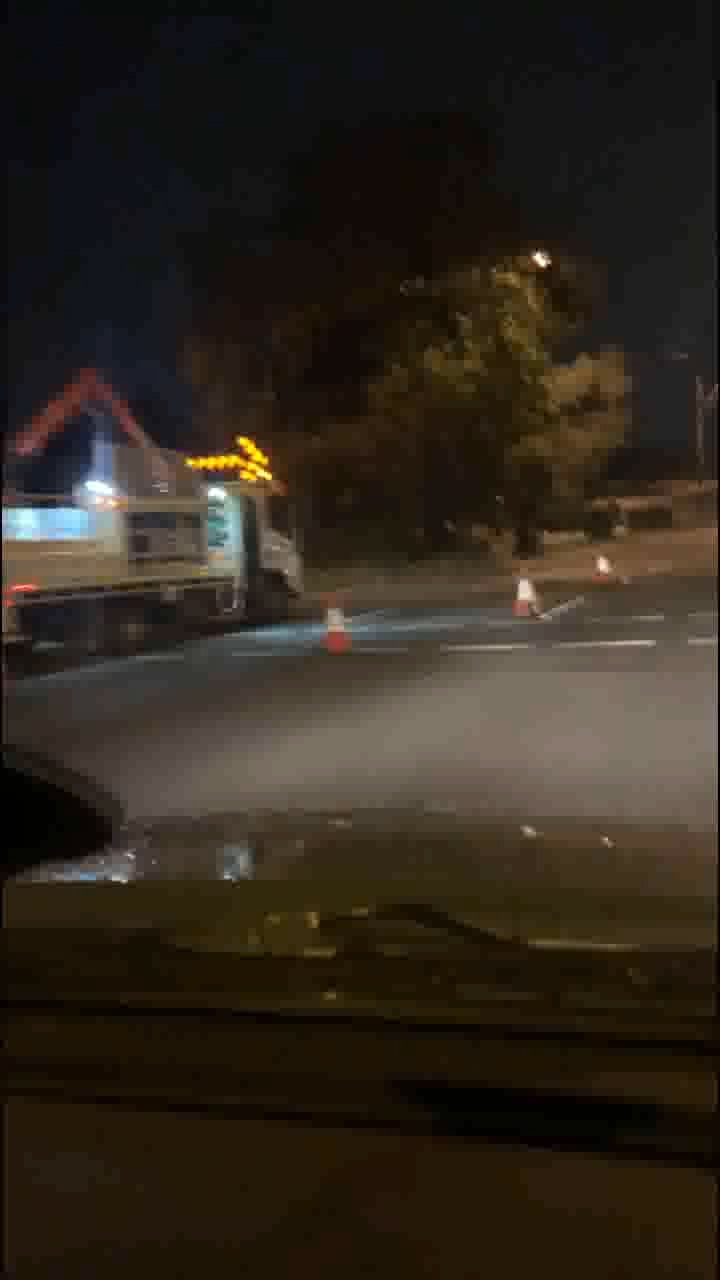road cone: (508, 561, 547, 621)
truck: (1, 417, 318, 649)
